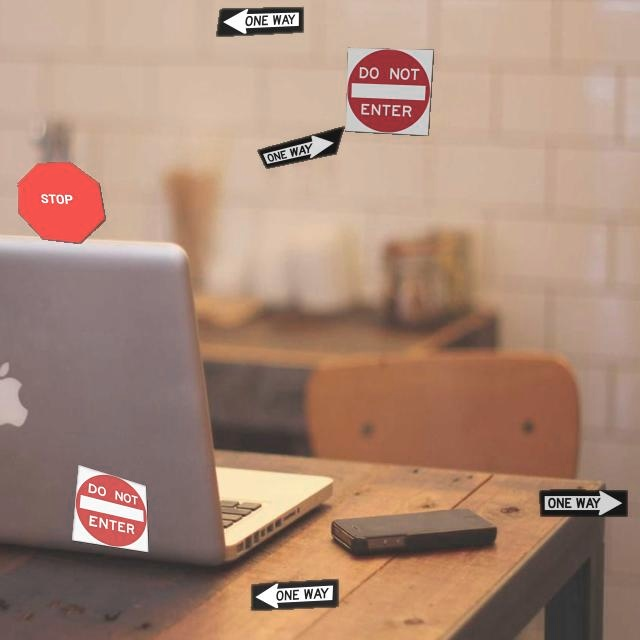DO_NOT_ENTER: (345, 47, 434, 136), (71, 464, 149, 553)
ONE_WAY_ left: (250, 578, 339, 611), (215, 6, 304, 37)
ONE_WAY_ right: (256, 125, 345, 169), (539, 489, 628, 517)
STOP: (17, 161, 106, 244)
